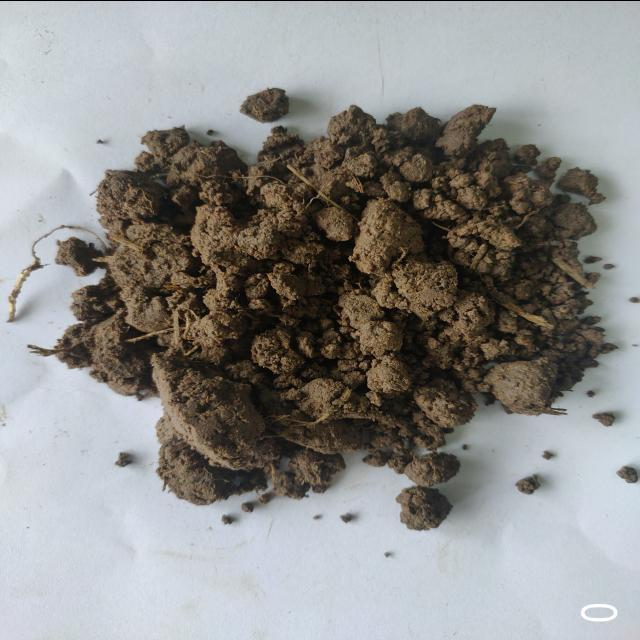soil: (165, 264, 546, 378)
